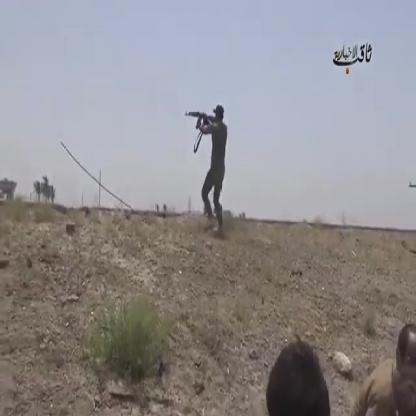Gun: (183, 106, 216, 134)
